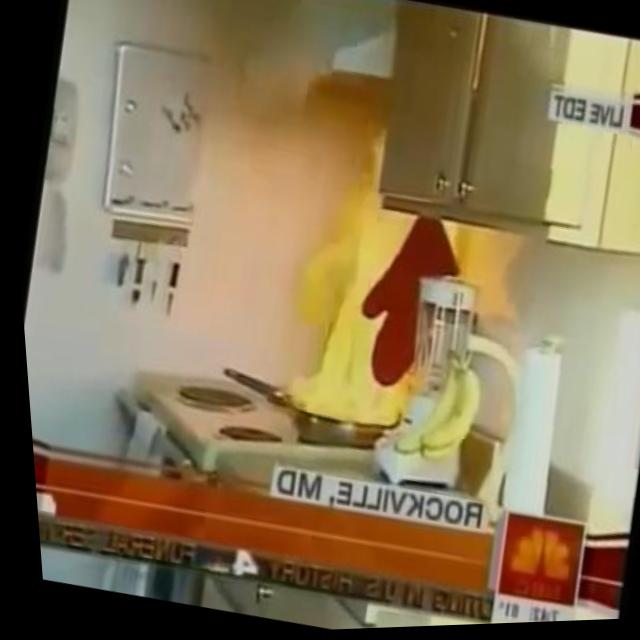fire: (256, 115, 478, 445)
